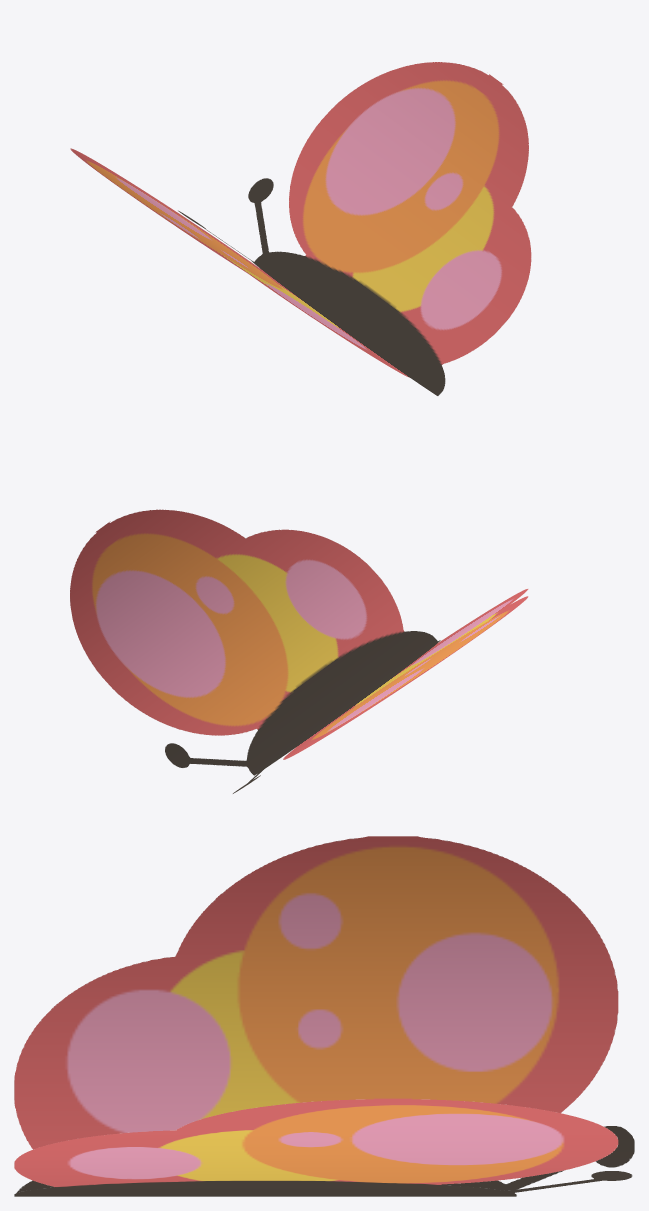
File: Butterfly 2.fbx
3 renders of one model, top to bottom at view 1: azimuth 30°, elevation 25°; view 2: azimuth 150°, elevation 25°; view 3: azimuth 270°, elevation 25°, orthographic. The views are drawn at different scales.
Parts seen in each view (by area): view 1: pPlane3; view 2: pPlane3; view 3: pPlane3.
Part boxes in pixels (x1=…): pPlane3: x1=70, y1=62, x2=531, y2=395; pPlane3: x1=70, y1=509, x2=528, y2=793; pPlane3: x1=14, y1=836, x2=634, y2=1196.
Bounding box in the file's own units: 1 × 0.4072 × 1.
Materials: 1 (1 with a texture image).
